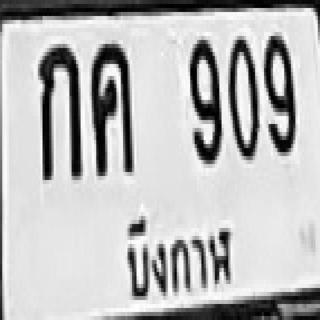A01: (36, 40, 81, 176)
A04: (90, 40, 132, 172)
N00: (226, 32, 257, 156)
N09: (188, 36, 219, 160), (262, 32, 293, 152)
P05: (113, 205, 239, 303)
